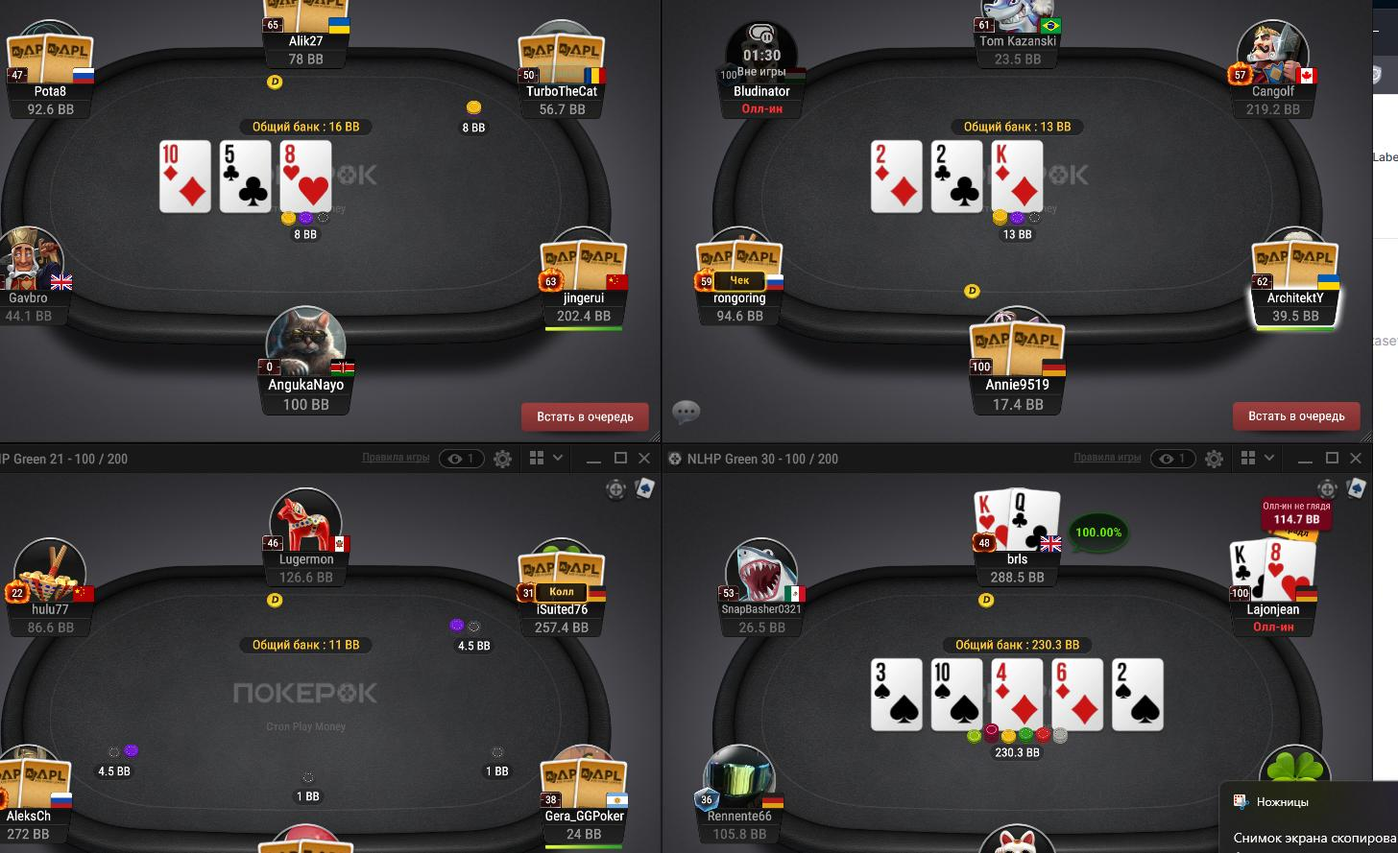10d: (160, 139, 213, 213)
10s: (931, 658, 982, 731)
2c: (930, 142, 985, 211)
2d: (872, 141, 923, 215)
2s: (1111, 659, 1162, 729)
3s: (872, 658, 923, 729)
4d: (993, 658, 1044, 728)
5c: (221, 141, 271, 210)
6d: (1053, 658, 1105, 730)
8h: (279, 141, 332, 213), (1264, 539, 1317, 598)
Kc: (1228, 536, 1270, 602)
Kd: (989, 139, 1045, 210)
Kh: (973, 491, 1012, 548)
Qc: (1009, 486, 1061, 552)
